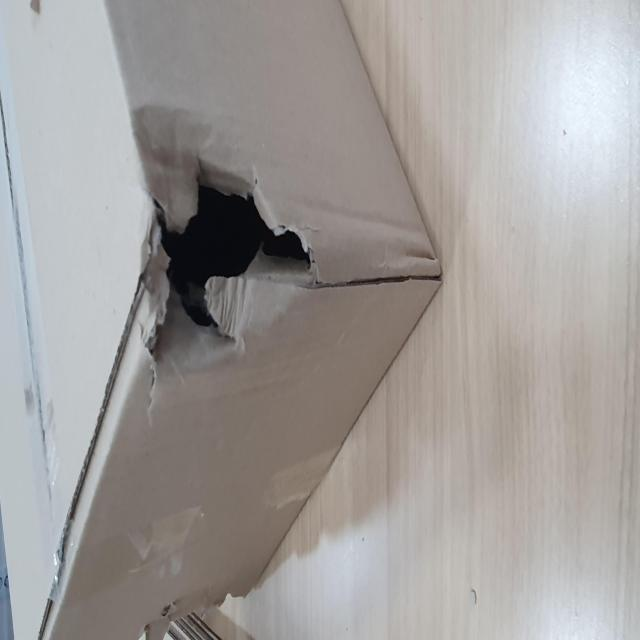damaged: (140, 220, 302, 575)
